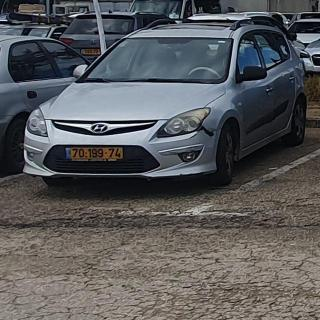LicensePlate: (72, 148, 123, 159)
